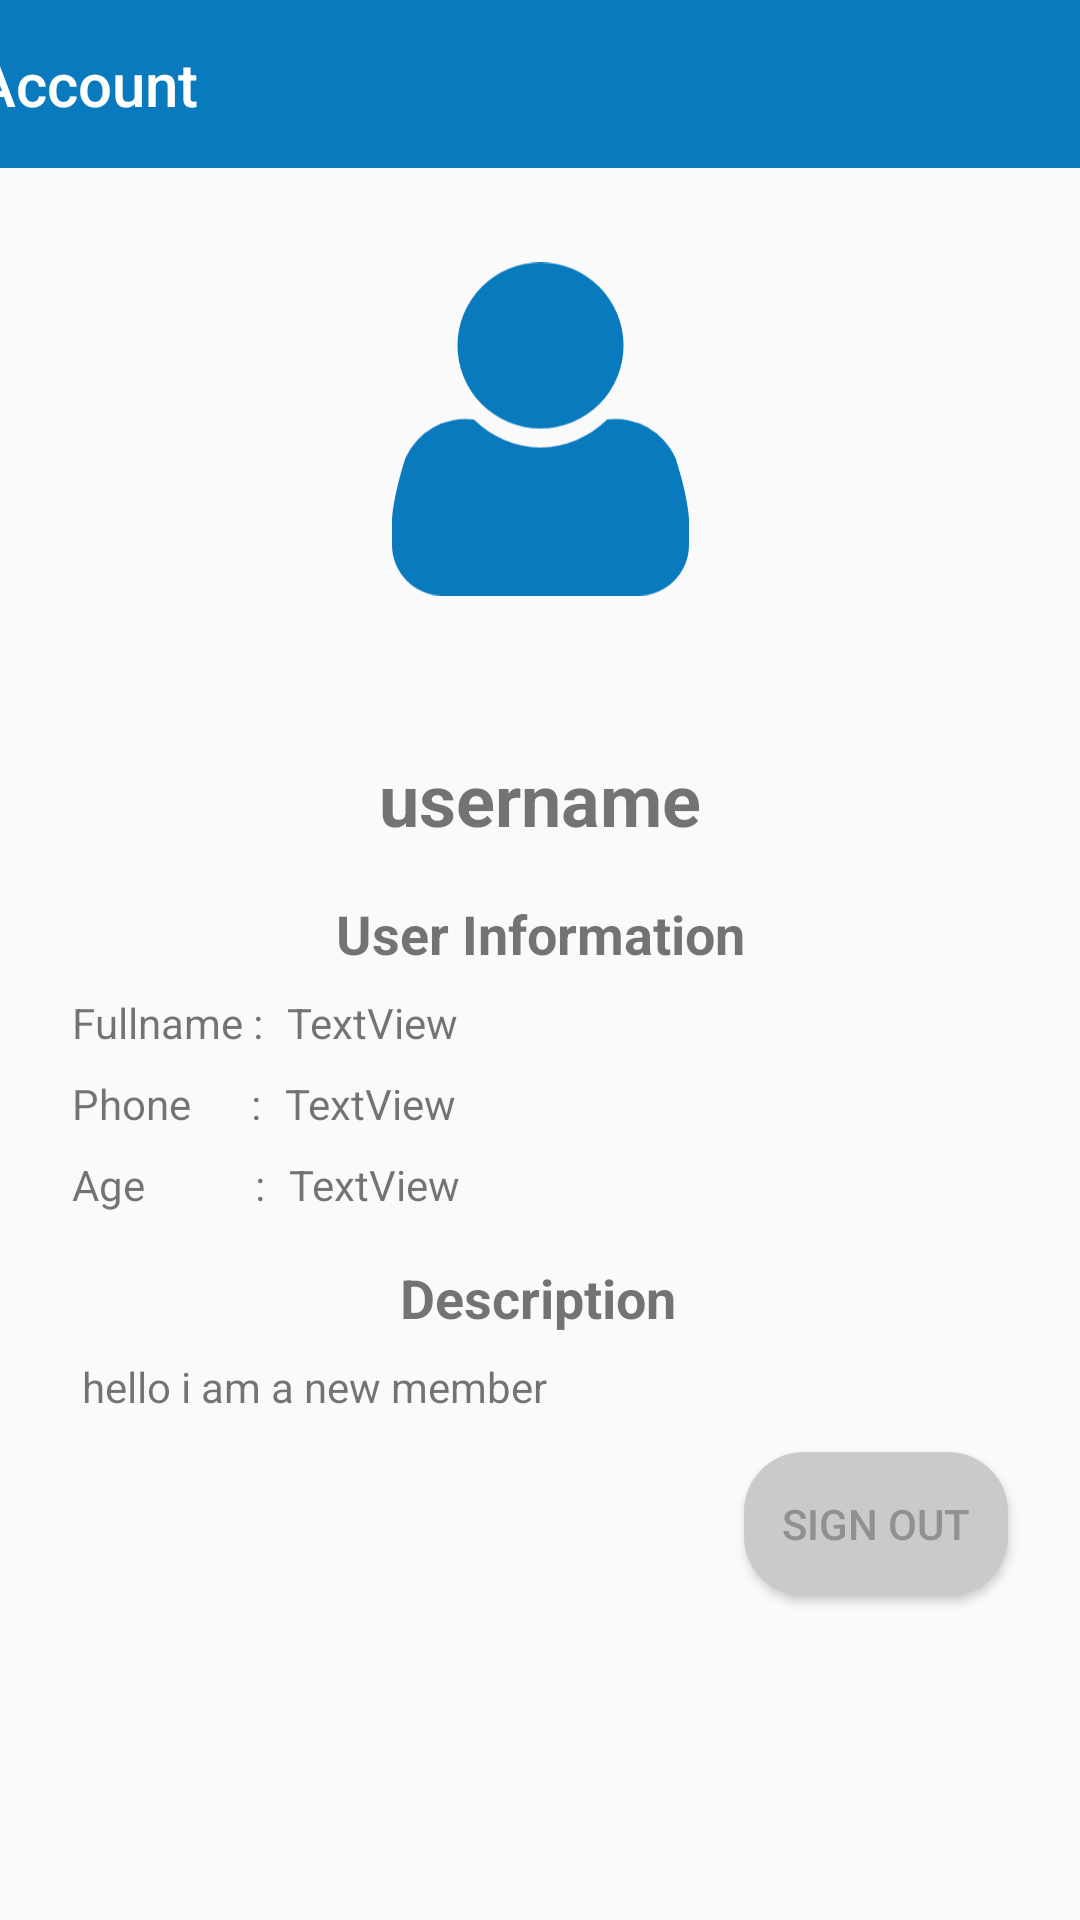

Icons on this 1080 × 1920 Android screen, each with its box as (x1, y1, x2, y2):
accpic: (392, 262, 689, 596)
